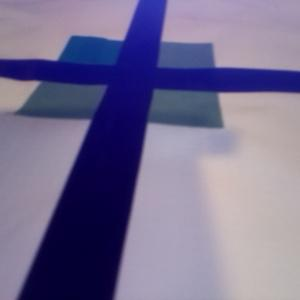bottom_left: (15, 66, 148, 119)
top_left: (57, 34, 156, 82)
top_right: (123, 42, 215, 89)
